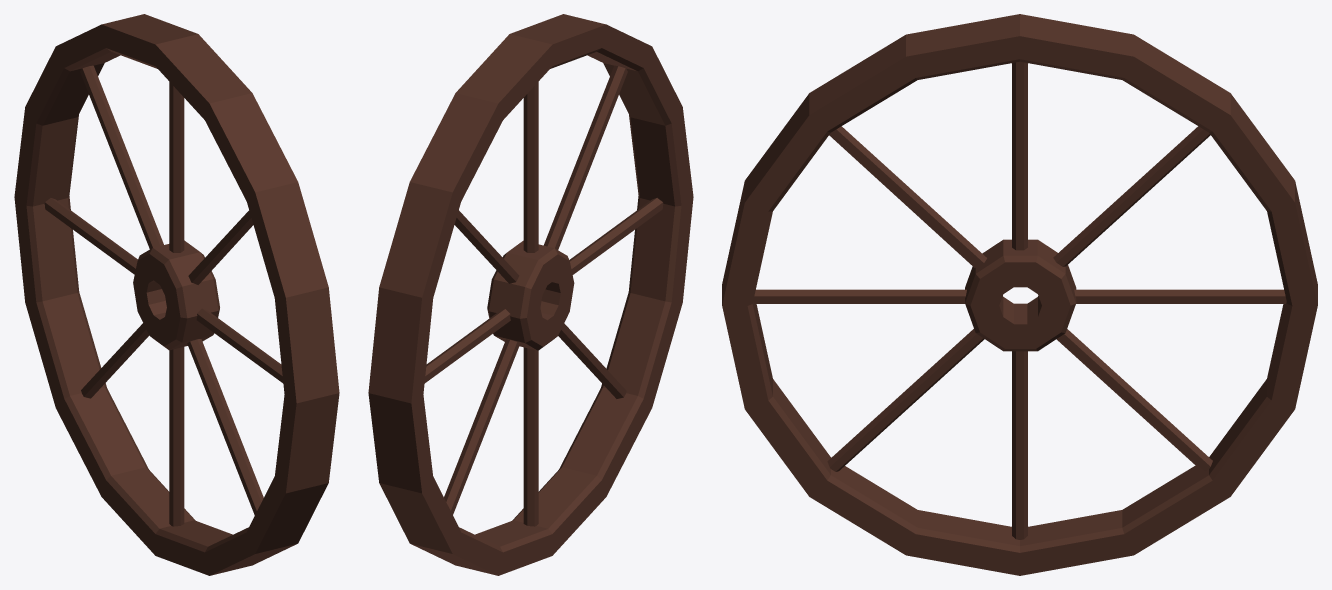
File: Wheel A-col.glb
3 renders of one model, left to right at view 1: azimuth 30°, elevation 25°; view 2: azimuth 150°, elevation 25°; view 3: azimuth 270°, elevation 25°, orthographic. The views are drawn at different scales.
Visible parts, largest first — view 1: Wheel A-col; view 2: Wheel A-col; view 3: Wheel A-col.
Boxes of the visible parts, x1=… form: Wheel A-col: x1=14, y1=14, x2=339, y2=575; Wheel A-col: x1=368, y1=14, x2=693, y2=575; Wheel A-col: x1=722, y1=14, x2=1317, y2=575.
Size of the model in its own units: 0.0916 by 1.04 by 1.04.
